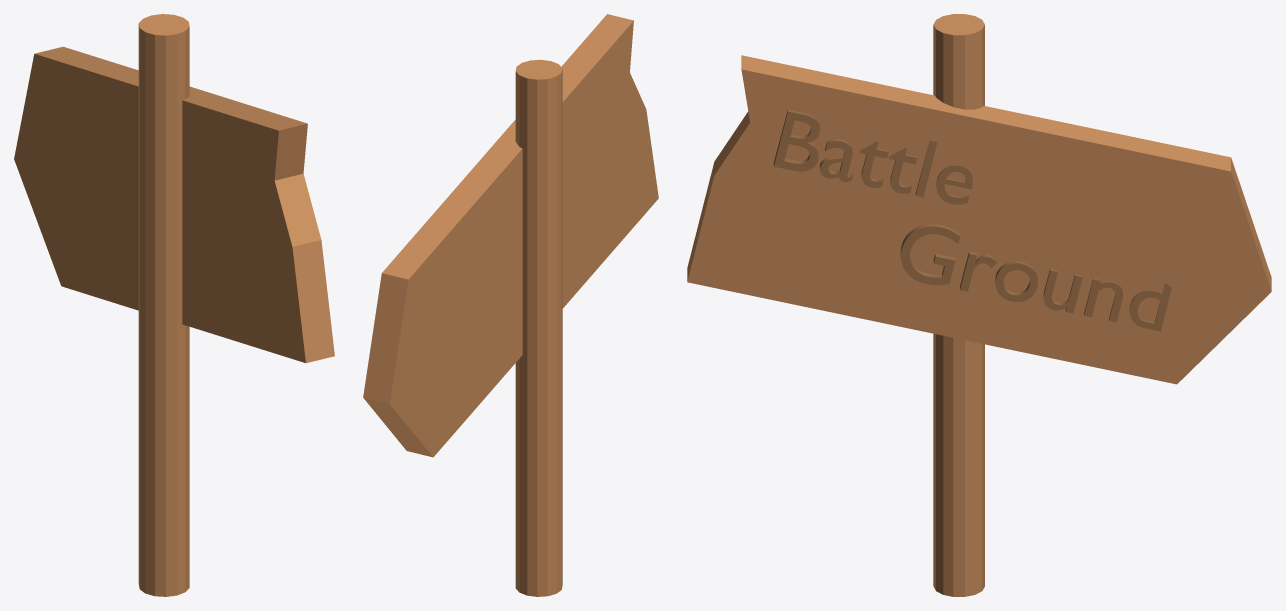
The model's file is Sign.fbx.
The picture shows the model from 3 angles, left to right: view 1: azimuth 30°, elevation 25°; view 2: azimuth 150°, elevation 25°; view 3: azimuth 270°, elevation 25°; orthographic projection. The views are drawn at different scales.
Parts seen in each view (by area): view 1: Cube.153; view 2: Cube.153; view 3: Cube.153, Text.
Part boxes in pixels (x1,y1,x2,y2): Cube.153: (14,14,334,596); Cube.153: (363,14,658,596); Cube.153: (687,14,1271,596); Text: (773,110,1171,331).
Size of the model in its own units: 24.97 by 200 by 189.
